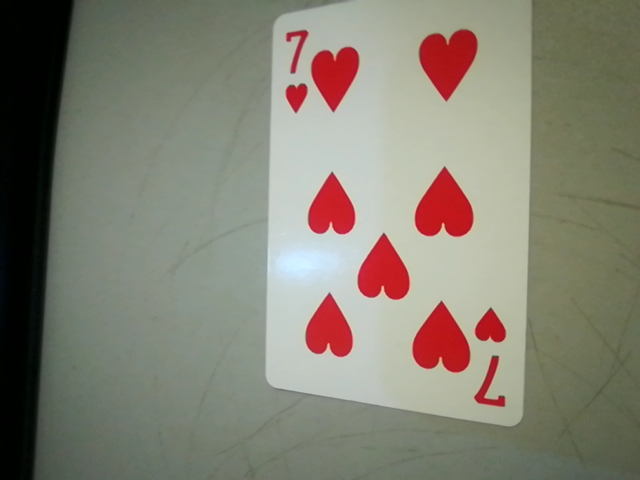hx 7: (471, 307, 522, 416)
